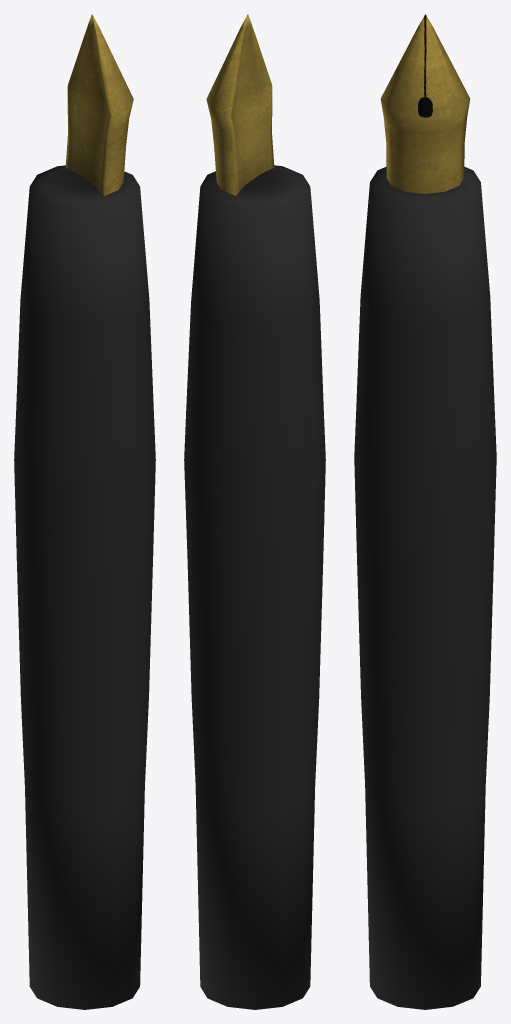
The model's file is Pluma 1.FBX.
The picture shows the model from 3 angles, left to right: view 1: azimuth 30°, elevation 25°; view 2: azimuth 150°, elevation 25°; view 3: azimuth 270°, elevation 25°; orthographic projection.
Parts seen in each view (by area): view 1: LowPoly; view 2: LowPoly; view 3: LowPoly.
Boxes of the visible parts, left/top/right/bottom form: LowPoly: left=14, top=14, right=155, bottom=1009; LowPoly: left=184, top=14, right=325, bottom=1009; LowPoly: left=354, top=14, right=496, bottom=1009.
Size of the model in its own units: 32.79 by 32.79 by 248.
